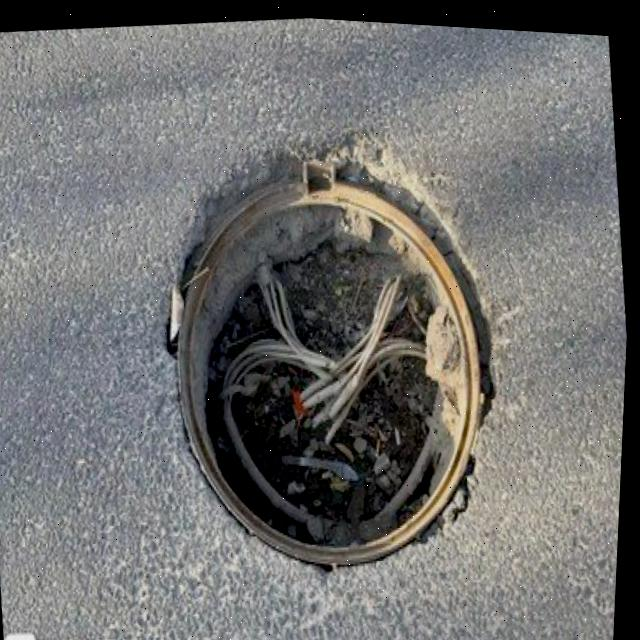manhole: (137, 122, 521, 587)
